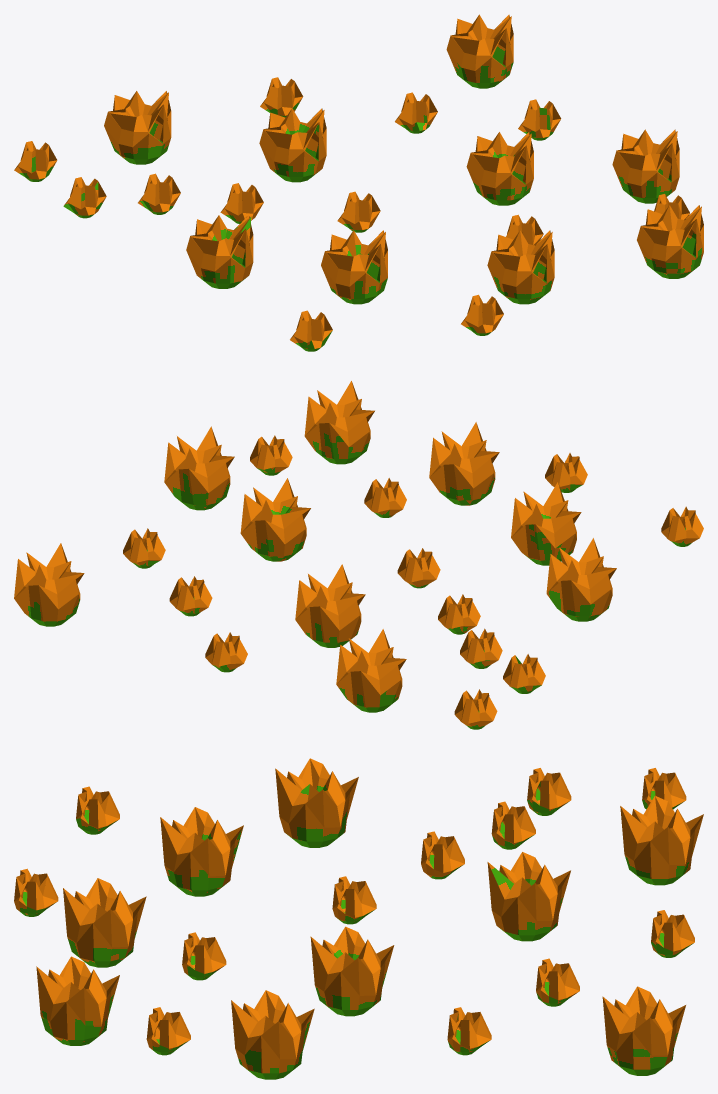
File: foodSpot.gltf
The picture shows the model from 3 angles, top to bottom: view 1: azimuth 30°, elevation 25°; view 2: azimuth 150°, elevation 25°; view 3: azimuth 270°, elevation 25°; orthographic projection. The views are drawn at different scales.
Visible parts, largest first — view 1: big6, big4, big7, big8, big1, big2, big5, big3, big9, little9, little4, little7 (+9 smaller); view 2: big1, big5, big8, big6, big9, big4, big7, big2, big3, little1, little4, little2 (+9 smaller); view 3: big2, big9, big6, big8, big3, big7, big4, big1, big5, little1, little10, little5 (+9 smaller).
Boxes of the visible parts, left/top/right/bottom form: big6: left=104, top=91, right=171, bottom=164; big4: left=186, top=215, right=253, bottom=288; big7: left=259, top=108, right=326, bottom=182; big8: left=487, top=230, right=554, bottom=304; big1: left=446, top=14, right=513, bottom=88; big2: left=466, top=132, right=533, bottom=205; big5: left=637, top=205, right=703, bottom=278; big3: left=321, top=230, right=387, bottom=304; big9: left=612, top=129, right=679, bottom=203; little9: left=63, top=177, right=106, bottom=218; little4: left=395, top=92, right=437, bottom=133; little7: left=290, top=310, right=332, bottom=351; big1: left=14, top=543, right=84, bottom=626; big5: left=304, top=381, right=374, bottom=464; big8: left=429, top=422, right=499, bottom=505; big6: left=336, top=629, right=406, bottom=712; big9: left=164, top=426, right=234, bottom=510; big4: left=546, top=538, right=616, bottom=621; big7: left=295, top=564, right=365, bottom=647; big2: left=240, top=478, right=310, bottom=561; big3: left=511, top=482, right=581, bottom=565; little1: left=397, top=548, right=440, bottom=588; little4: left=169, top=576, right=212, bottom=616; little2: left=460, top=628, right=502, bottom=668; big2: left=310, top=926, right=394, bottom=1016; big9: left=231, top=990, right=314, bottom=1079; big6: left=620, top=795, right=703, bottom=885; big8: left=63, top=878, right=146, bottom=967; big3: left=160, top=807, right=243, bottom=896; big7: left=487, top=852, right=570, bottom=941; big4: left=275, top=758, right=358, bottom=847; big1: left=602, top=986, right=685, bottom=1075; big5: left=36, top=956, right=119, bottom=1045; little1: left=332, top=876, right=376, bottom=924; little10: left=182, top=932, right=226, bottom=980; little5: left=447, top=1007, right=491, bottom=1055.
Bounding box in the file's own units: 4.72 × 0.625 × 4.88.
1 material, 1 textured.
